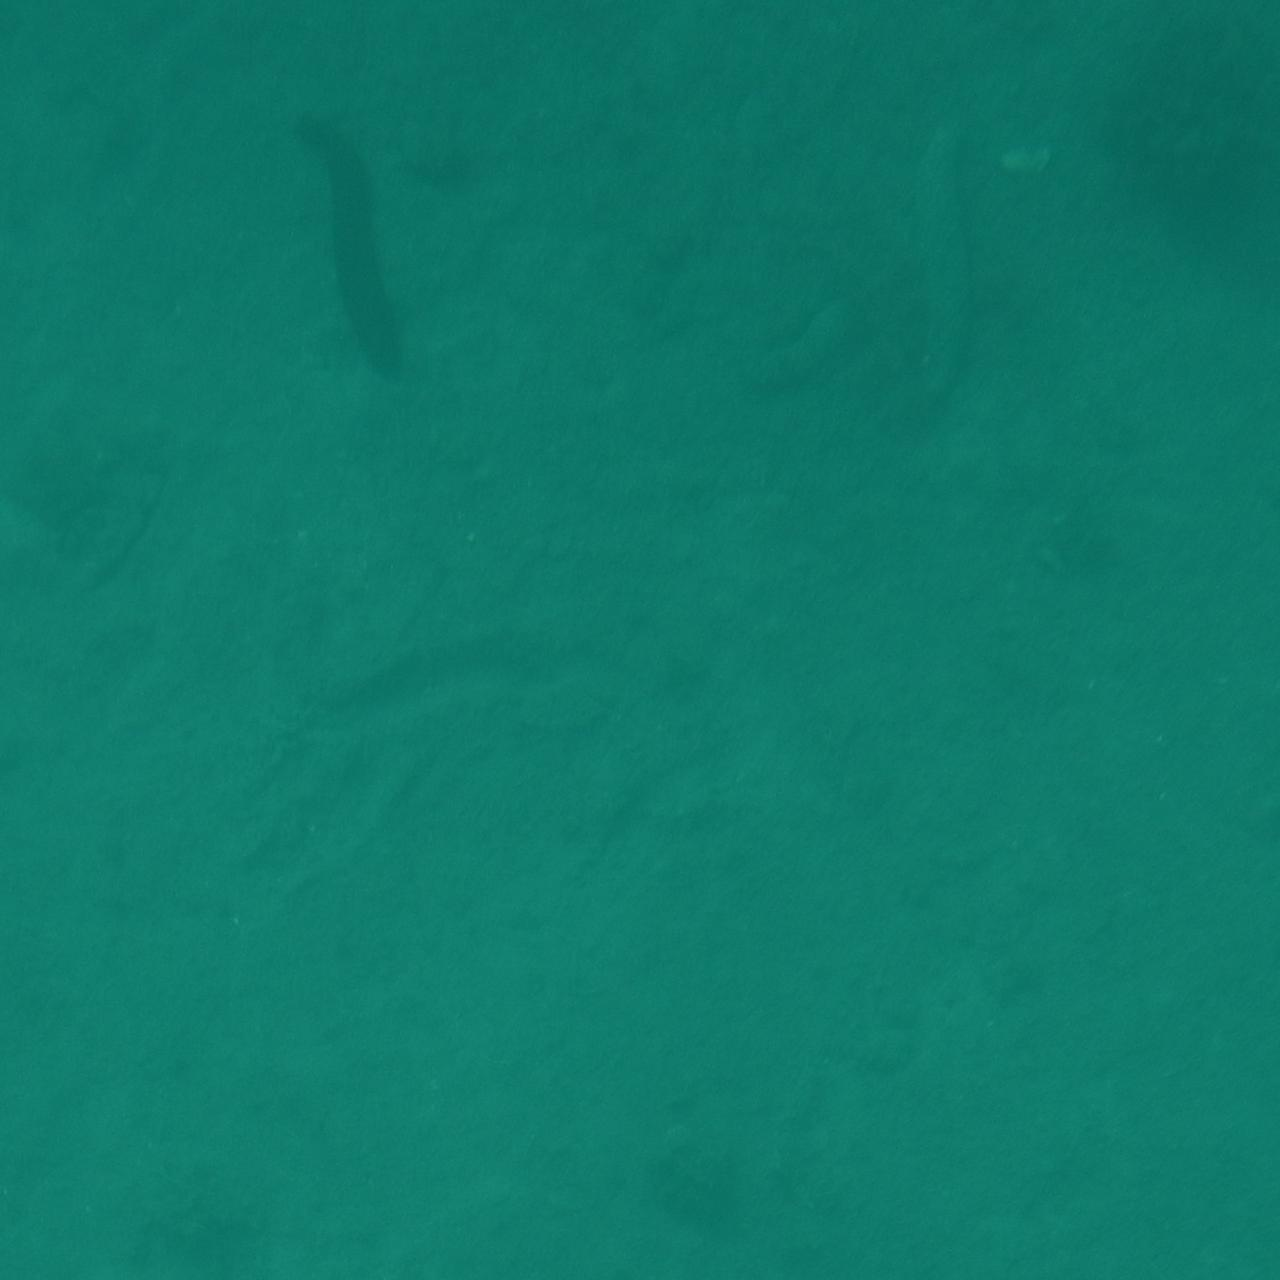Holothuria tubulosa: (871, 63, 1008, 433), (263, 102, 417, 394)
